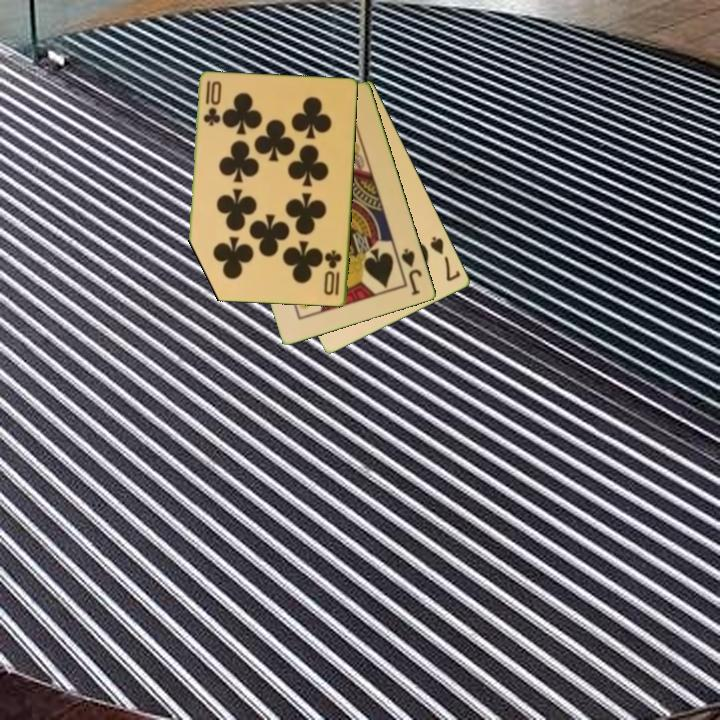10c: (321, 247, 345, 299), (200, 78, 221, 129)
7s: (427, 233, 464, 284)
Js: (398, 245, 425, 298)
